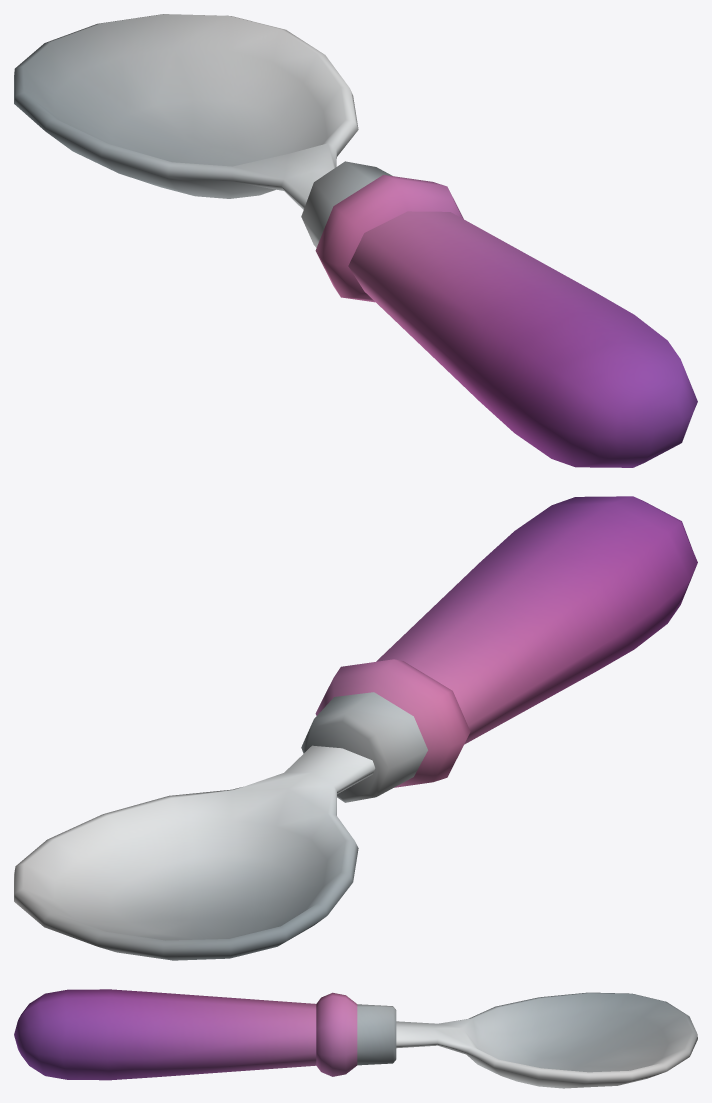
Rendered from spoon_001.fbx.
The picture shows the model from 3 angles, top to bottom: view 1: azimuth 30°, elevation 25°; view 2: azimuth 150°, elevation 25°; view 3: azimuth 270°, elevation 25°; orthographic projection. The views are drawn at different scales.
Parts seen in each view (by area): view 1: spoon_001; view 2: spoon_001; view 3: spoon_001.
Part boxes in pixels (box(x1,y1,x2,y2)): spoon_001: box(14, 14, 697, 467); spoon_001: box(14, 496, 697, 960); spoon_001: box(14, 989, 697, 1088).
Size of the model in its own units: 5.7 by 19.44 by 2.52.
